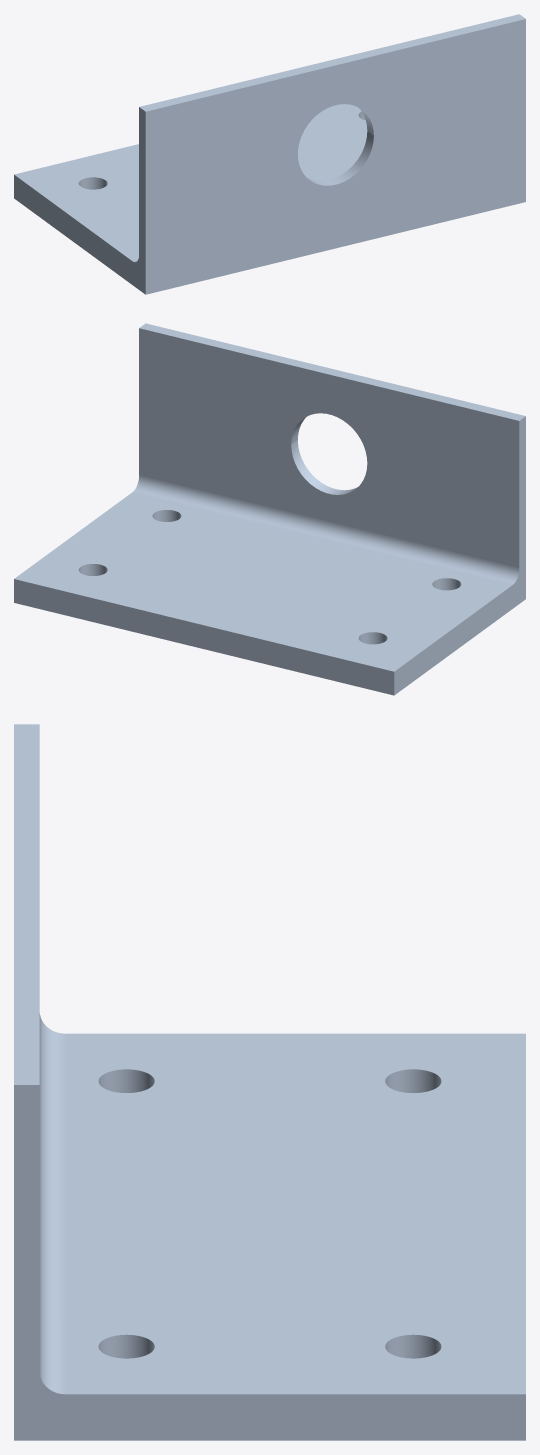
The picture shows the model from 3 angles, top to bottom: view 1: azimuth 30°, elevation 25°; view 2: azimuth 150°, elevation 25°; view 3: azimuth 270°, elevation 25°; orthographic projection. The views are drawn at different scales.
Visible parts, largest first — view 1: part; view 2: part; view 3: part.
Boxes of the visible parts, <box> form: part: <box>14,14,525,294</box>; part: <box>14,323,525,695</box>; part: <box>14,724,525,1440</box>.
Bounding box in the file's own units: 100 × 46 × 60.
